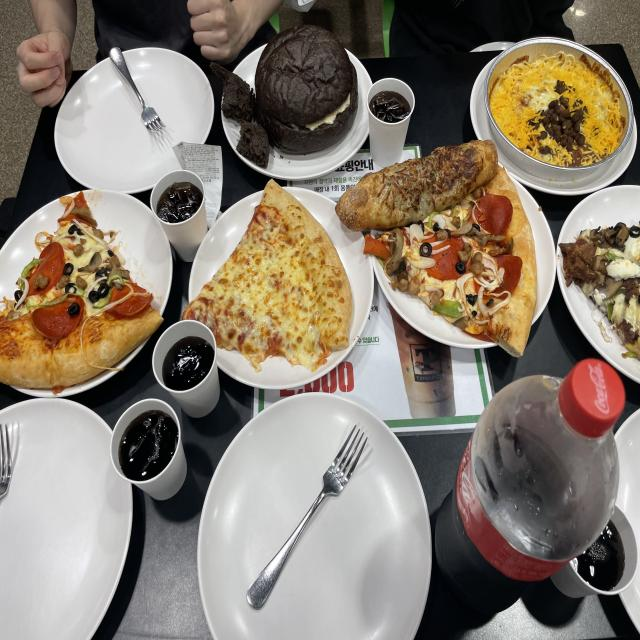Cup: (110, 398, 187, 501), (152, 319, 220, 418), (150, 170, 207, 262), (366, 77, 415, 168)
Plate: (196, 392, 432, 640), (186, 186, 375, 390), (0, 189, 173, 398), (372, 164, 556, 350), (0, 397, 133, 639), (469, 38, 637, 196), (54, 46, 215, 194), (221, 43, 373, 181), (550, 407, 640, 634), (556, 184, 640, 384)
